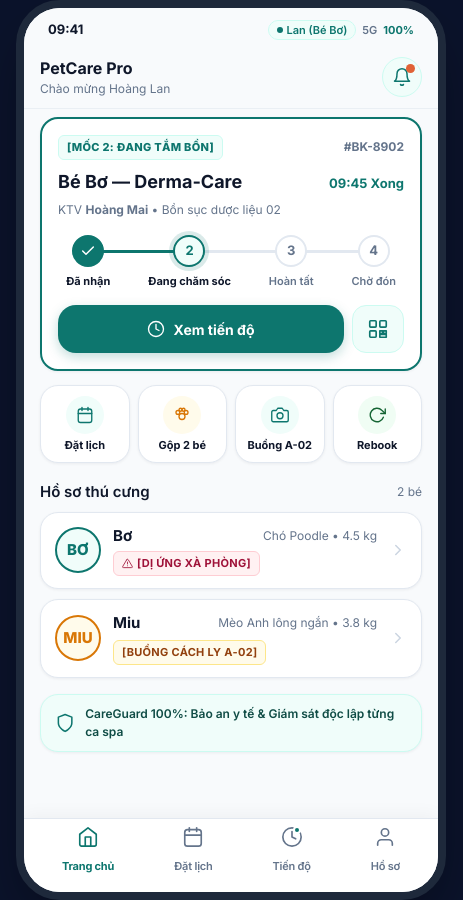
Test case: PetCare Pro HCI — 4 Quy Trình Cốt Lõi & Giao Diện Scannable › 8. Chuyển đổi tài khoản mượt mà giữa Lan (Bơ) và Khoa (Miu)
// Nút chuyển tài khoản người dùng trên status bar
Click the button with aria-label "Tài khoản người dùng" at coordinates (312, 30), box [268,20,356,40]
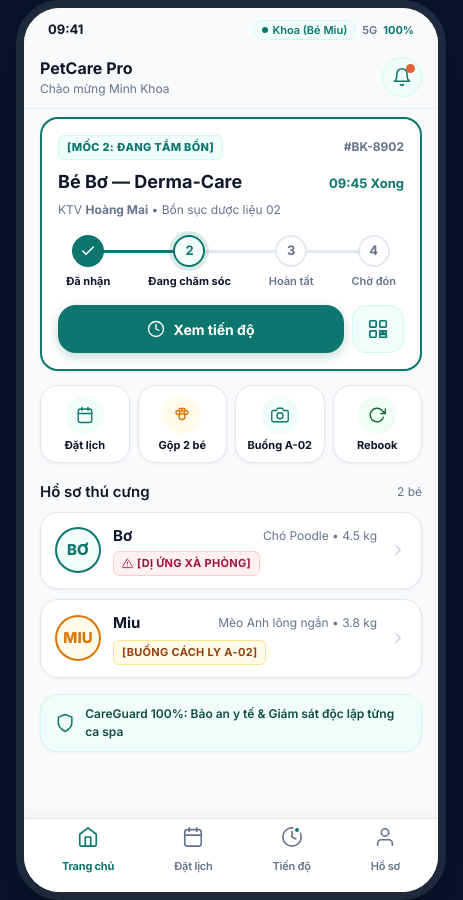
Check: the text "Chào mừng Minh Khoa" is shown, box [40,80,170,98]
// Đổi lại sang Lan (Bơ)
Click the button with aria-label "Tài khoản người dùng" at coordinates (305, 30), box [253,20,356,40]
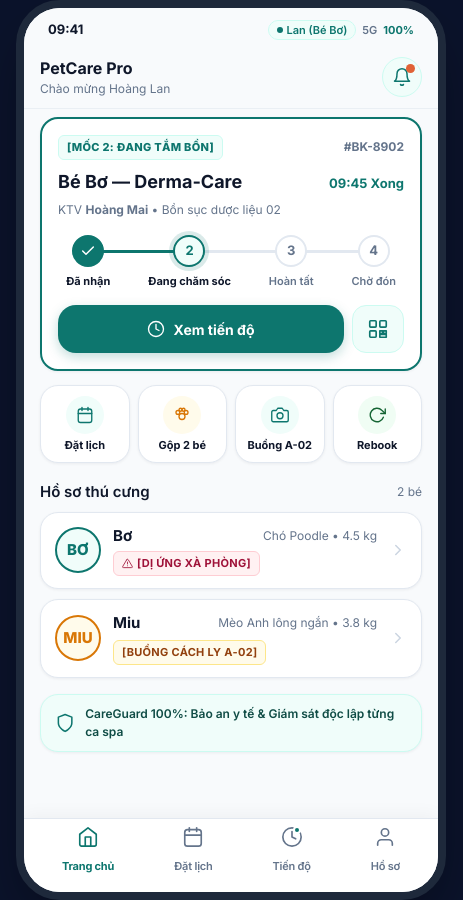
Check: the text "Chào mừng Hoàng Lan" is shown, box [40,80,170,98]
